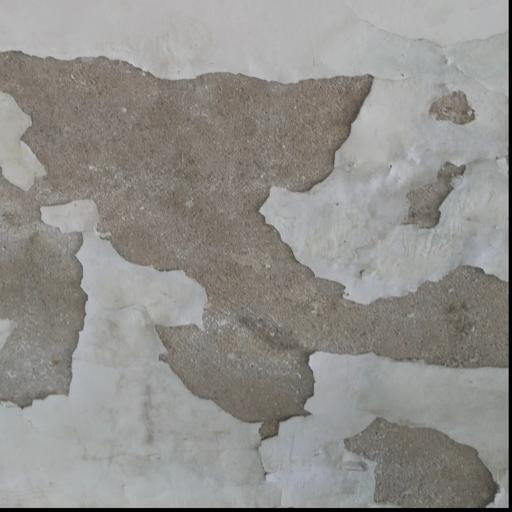peeling: (0, 26, 512, 512)
